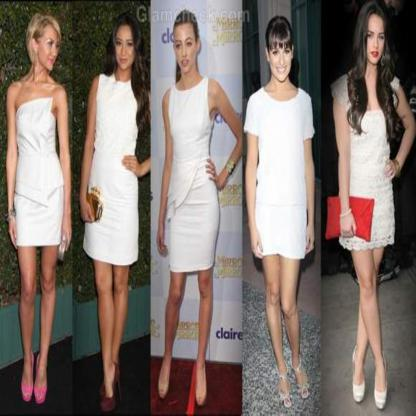face: (270, 39, 293, 82), (365, 17, 386, 64), (175, 29, 197, 73), (116, 30, 136, 71), (39, 31, 60, 70)
